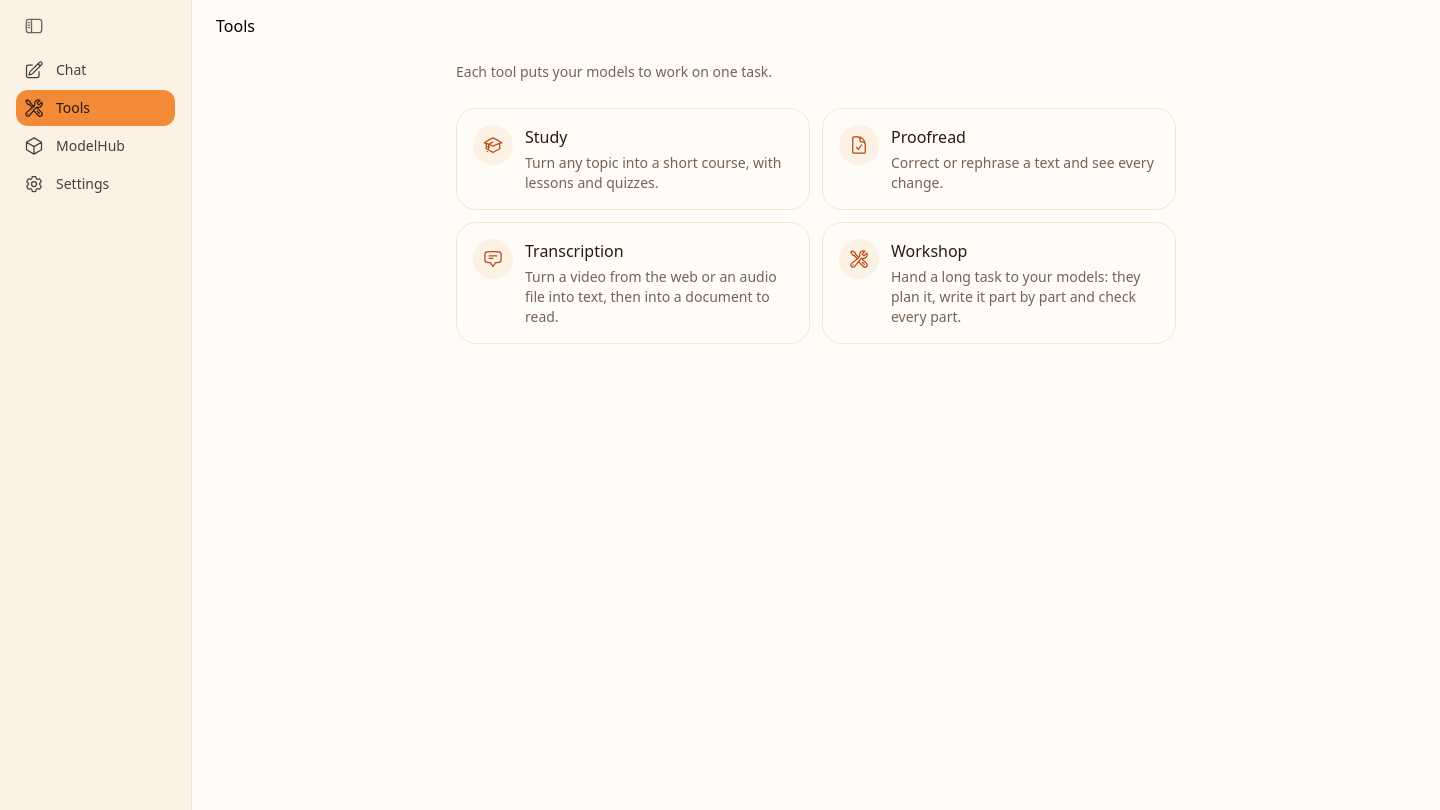
Test: Workshop home › opens from its card on the Tools page, says there is no project yet
This screenshot has width=1440, height=810.
What coordinates should you click on to do the following:
click the link with test id "tool-card-workshop"
I would click on:
 (999, 283)
Its box is [822, 222, 1176, 344].
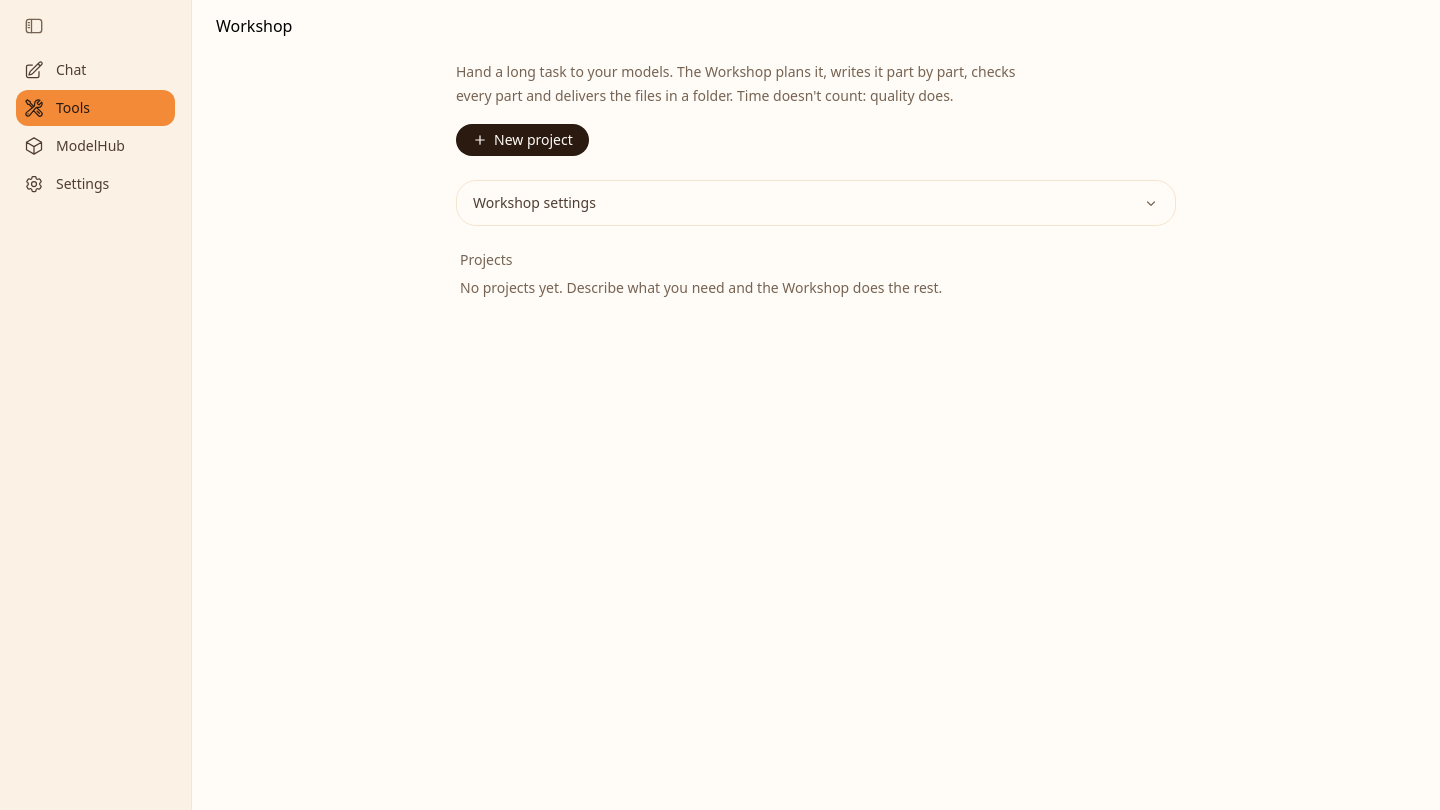
Expected: the text with test id "workshop-empty" is shown, [460, 278, 942, 297]
Expected: the heading "Workshop" is shown, [216, 15, 292, 37]
What coordinates should you click on to do the following:
click the link "New project"
I would click on:
 (522, 140)
Its box is [456, 124, 589, 156].
(page scrolled)
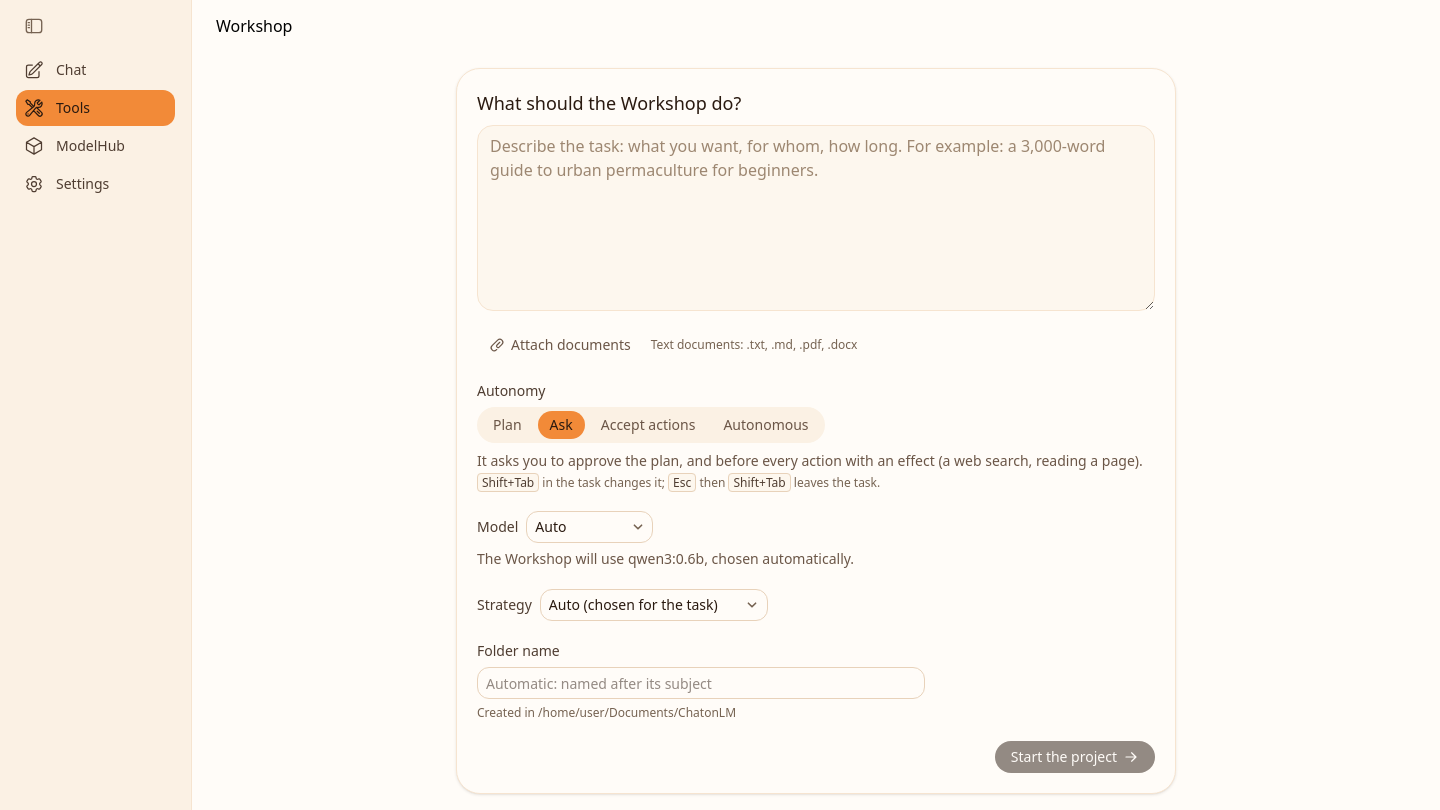
Expected: the form with test id "workshop-form" is shown, [456, 68, 1176, 794]
